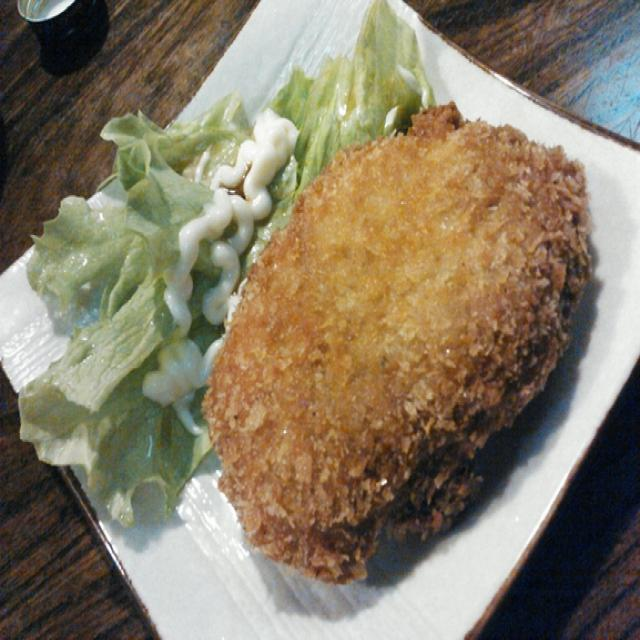炸货点心: (4, 0, 634, 637)
